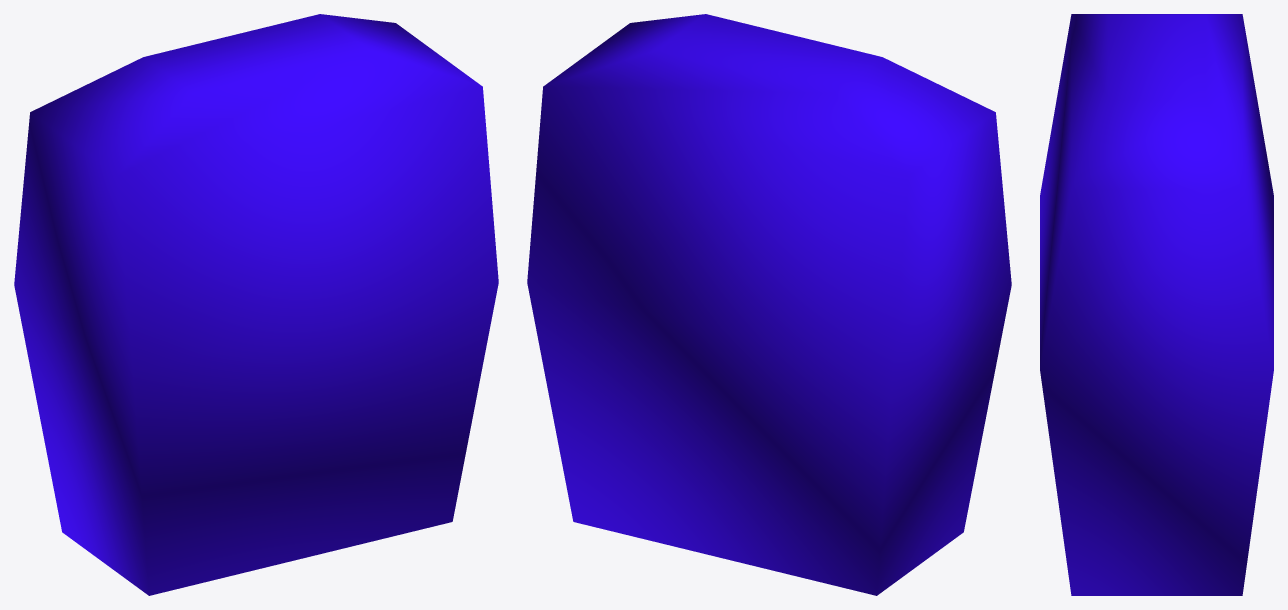
The model's file is office_pack_stamp_1_meshCollider.fbx.
The picture shows the model from 3 angles, left to right: view 1: azimuth 30°, elevation 25°; view 2: azimuth 150°, elevation 25°; view 3: azimuth 270°, elevation 25°; orthographic projection.
Visible parts, largest first — view 1: office_pack_stamp_1_meshCollider; view 2: office_pack_stamp_1_meshCollider; view 3: office_pack_stamp_1_meshCollider.
Part boxes in pixels (x1,y1,x2,y2): office_pack_stamp_1_meshCollider: (14, 14, 498, 595); office_pack_stamp_1_meshCollider: (527, 14, 1011, 595); office_pack_stamp_1_meshCollider: (1040, 14, 1273, 595).
Bounding box in the file's own units: 7.4 × 9.16 × 4.16.
